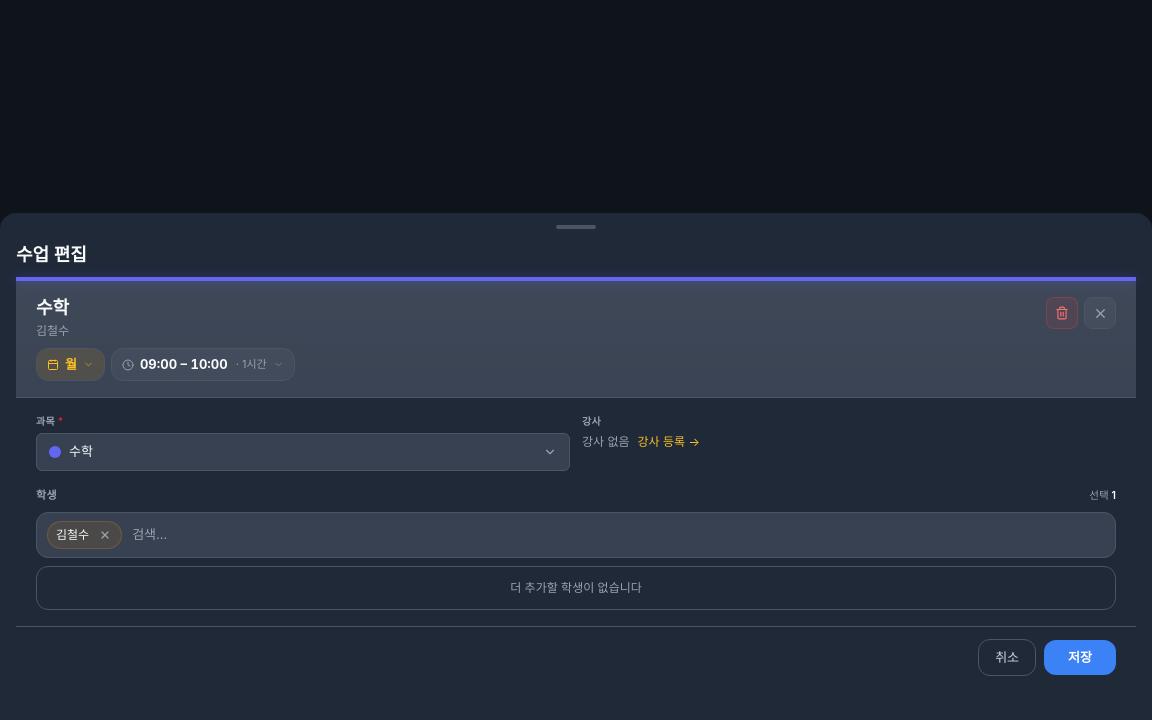
Test: EditSessionModal Integration Tests › 요일 chip 클릭 시 popover에 weekday 버튼들이 렌더링되어야 한다 (Variant C)
This screenshot has width=1152, height=720.
// 헤더 weekday chip 클릭 → popover open
Click the button named "요일:".
click(70, 365)  # box [36,348,105,381]
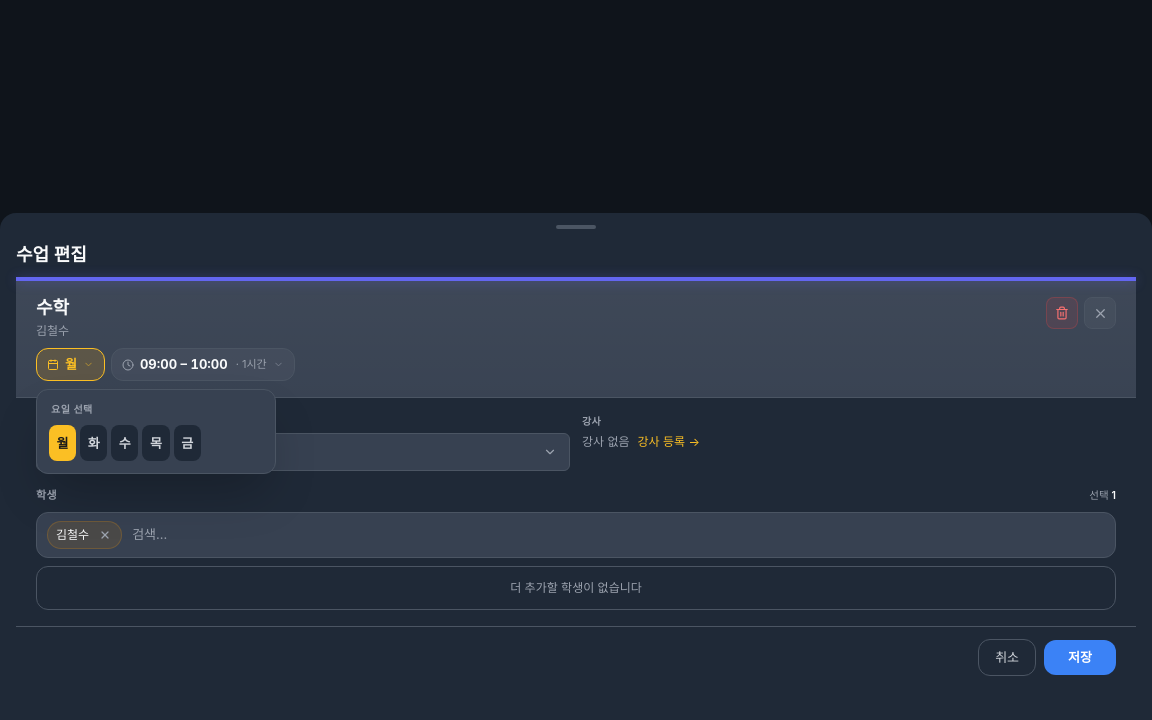
Now the button "월" below "요일 선택" is shown, box [49,425,76,461]
Now the button "금" is shown, box [174,425,201,461]
